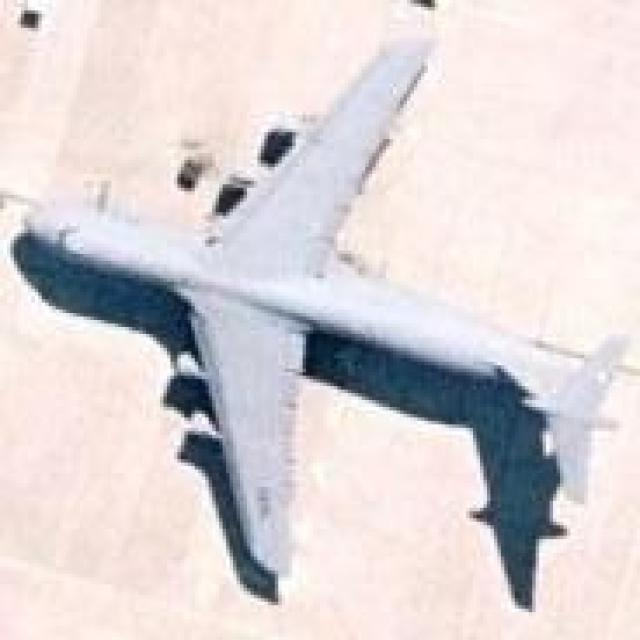C-5_TopDown: (9, 29, 632, 610)
